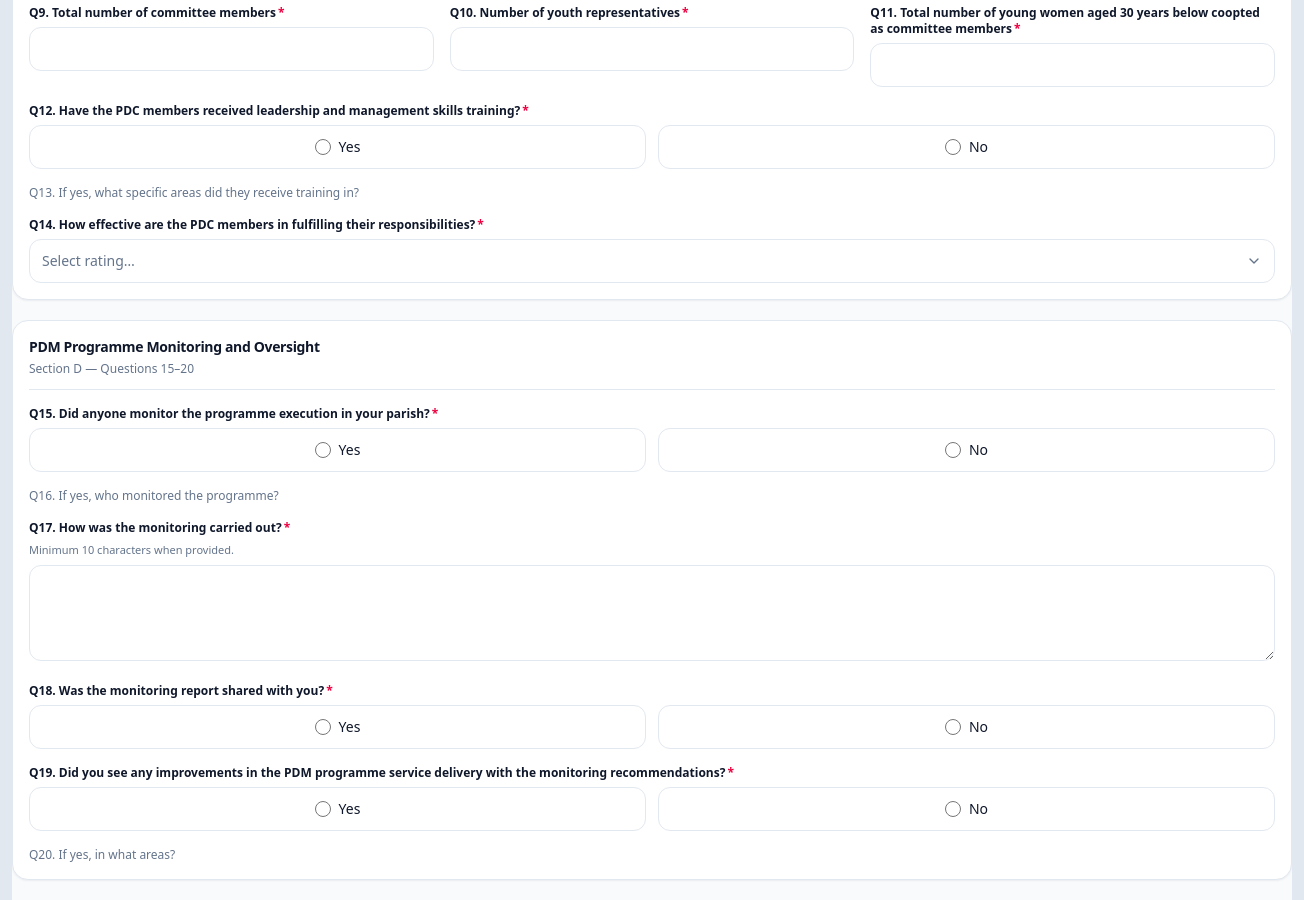
Scenario: PcForm › Others (specify) in monitored-by shows required text field (TC-FORM-05-03)
(page scrolled)
Click the 3rd radio button: (323, 450) [315,442,331,458]
(page scrolled)
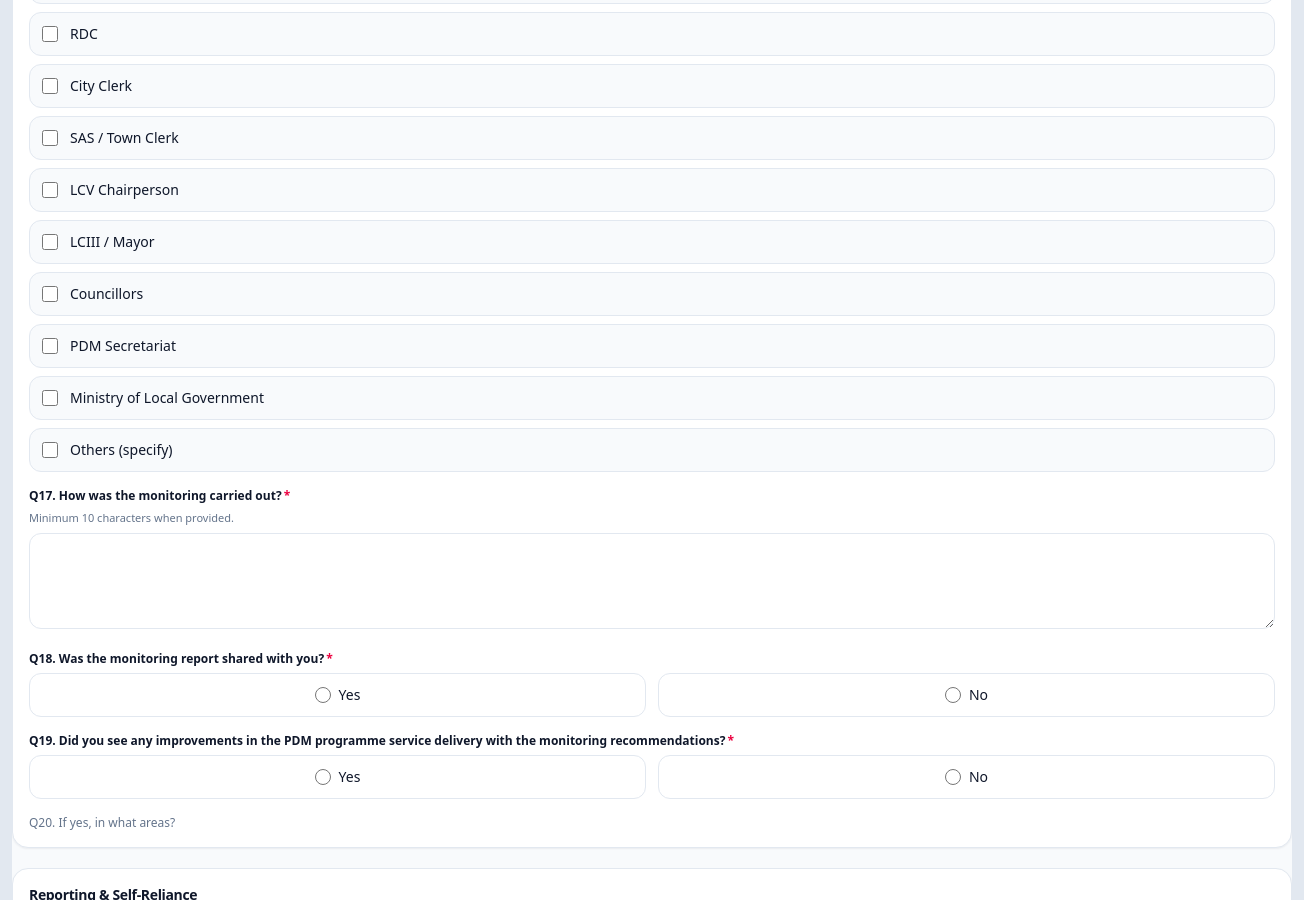
Click the checkbox labelled "Others (specify)": (50, 450) [42,442,58,458]
(page scrolled)
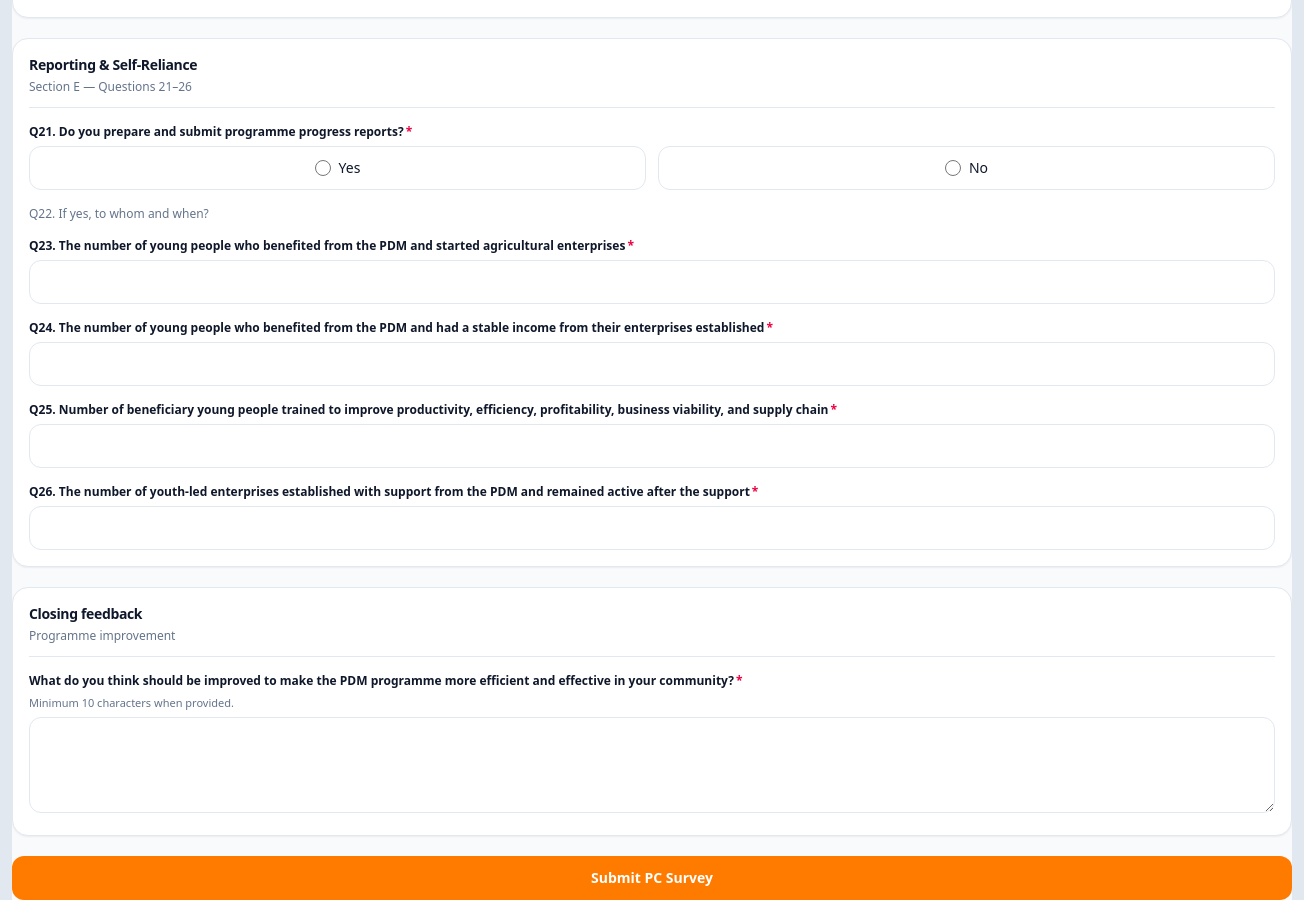
Click the button "Submit PC Survey": (652, 878) [12,856,1292,899]
(page scrolled)
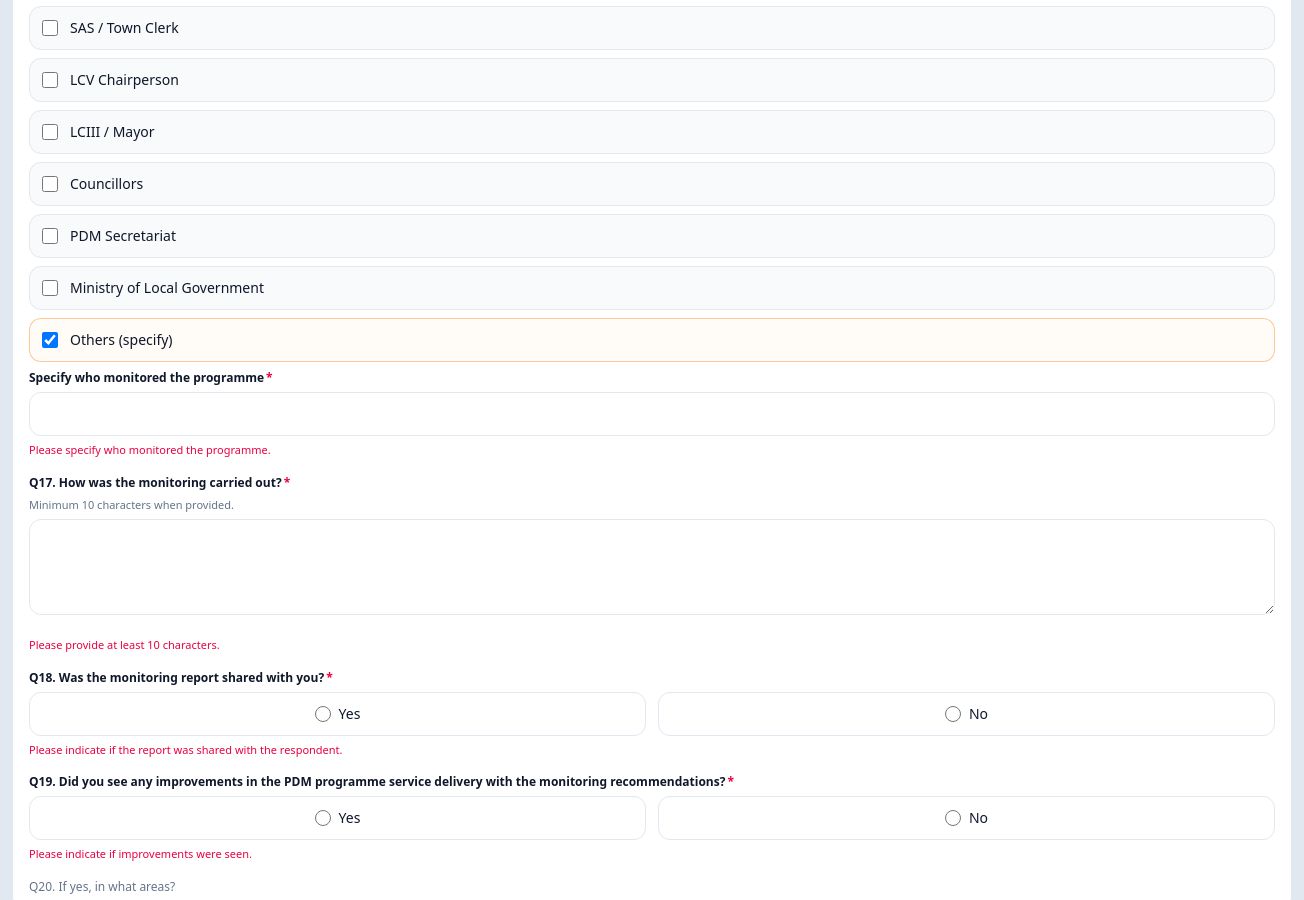
Expected: the text "Please specify who monitored the programme." is shown, [29,442,271,457]
